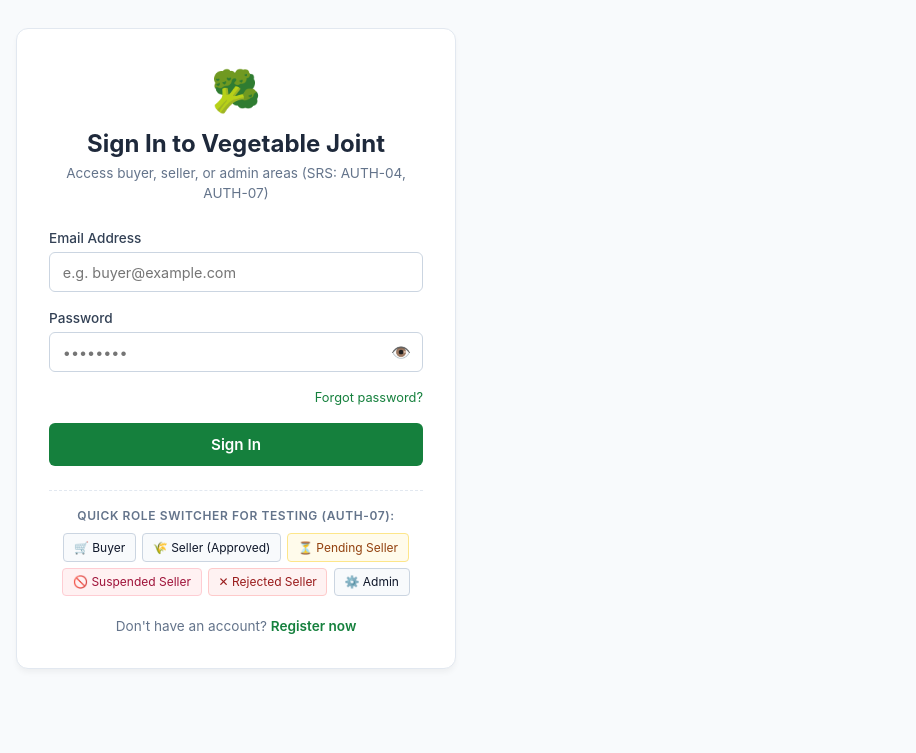
Scenario: Login Page (FE-065 / AUTH-04, AUTH-09, AUTH-13) › Generic invalid credentials (AUTH-04, AUTH-09, TC-14) › does not reveal whether the email exists (unknown email uses same generic message)
The image size is (916, 753).
Type "nobody@nowhere.example" into the field with test id "login-email-input" at (236, 272), box [49,252,423,292]
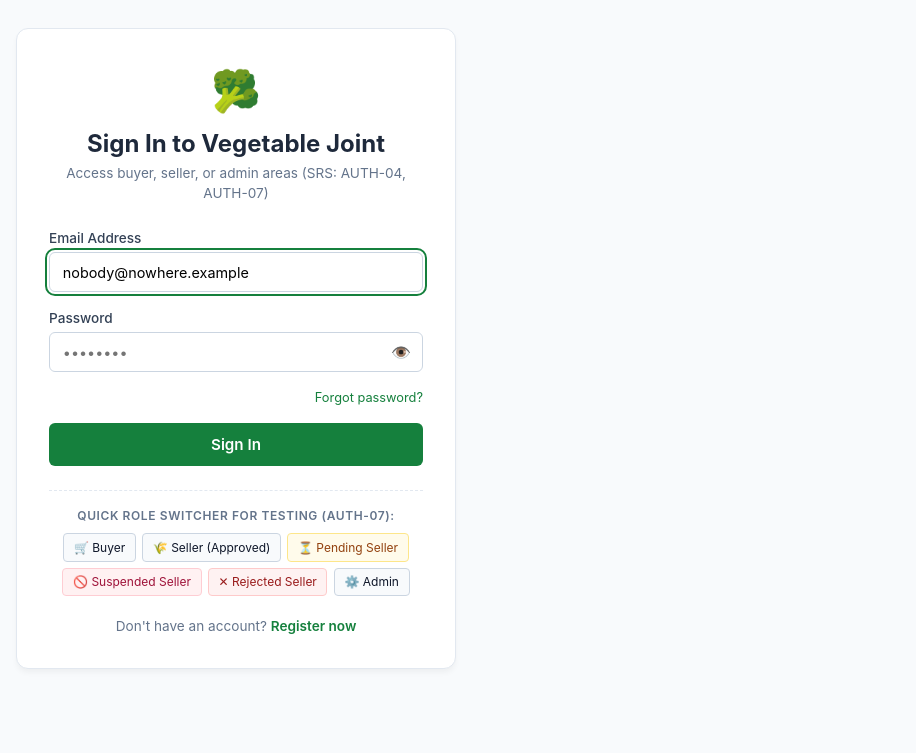
Type "whatever123" into the password field with test id "login-password-input" at (236, 352), box [49,332,423,372]
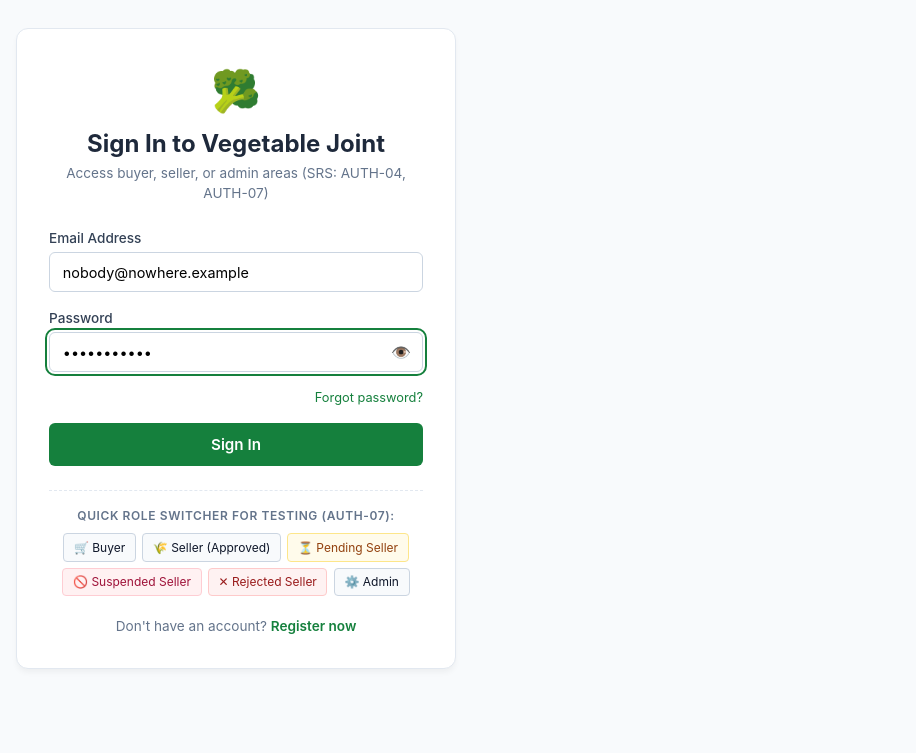
Click the button with test id "login-submit-btn" at (236, 445), box [49,423,423,466]
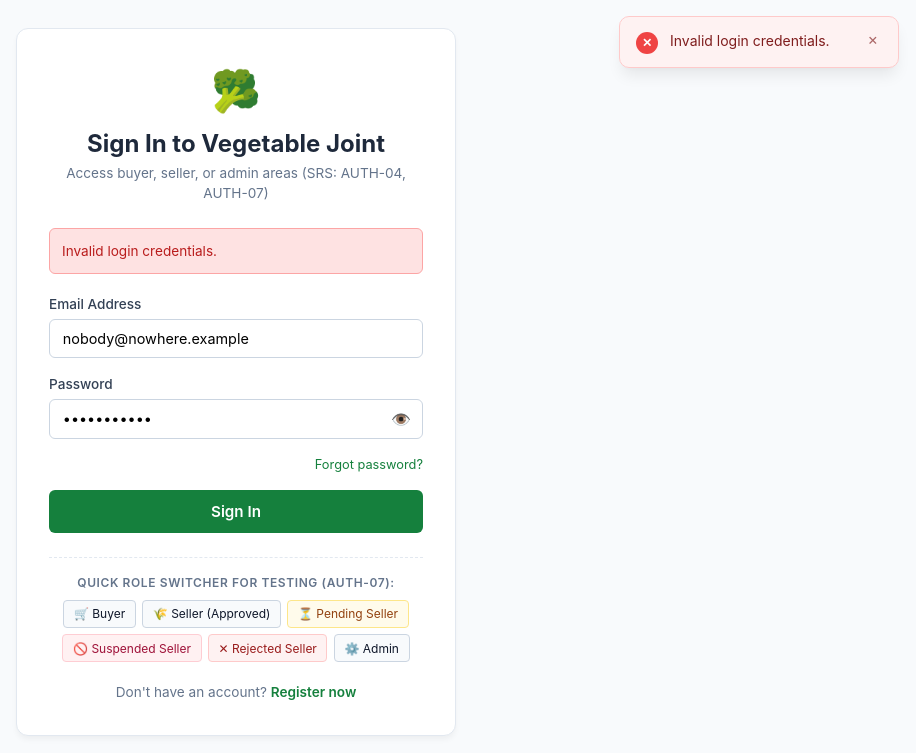
Result: the message with test id "login-error-message" shows "Invalid login credentials" at [62,243,217,259]
